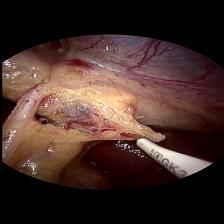Hook: (114, 132, 214, 178)
